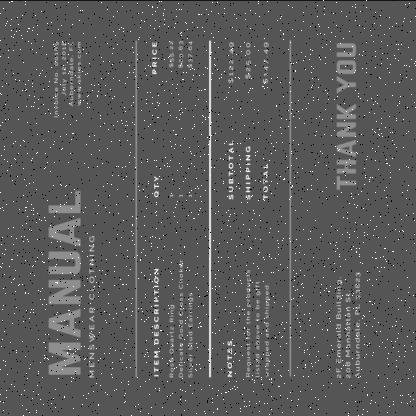Paragraph: (47, 187, 97, 379), (224, 37, 274, 202), (224, 265, 273, 382), (334, 38, 360, 192), (332, 268, 364, 383), (52, 37, 84, 119)
Table: (136, 35, 210, 381)
